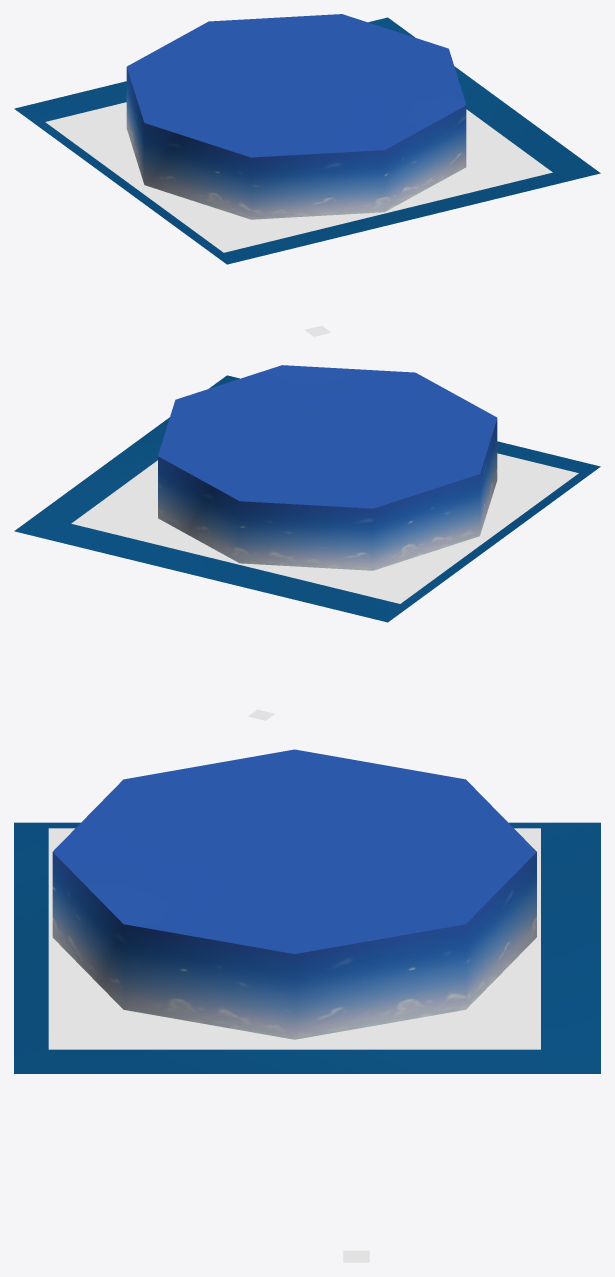
The model's file is world_map.glb.
3 renders of one model, top to bottom at view 1: azimuth 30°, elevation 25°; view 2: azimuth 150°, elevation 25°; view 3: azimuth 270°, elevation 25°, orthographic. The views are drawn at different scales.
Visible parts, largest first — view 1: skybox, beachwater, bottom; view 2: skybox, bottom, beachwater; view 3: skybox, bottom, beachwater.
Boxes of the visible parts, x1=… form: skybox: x1=126, y1=14, x2=466, y2=219; beachwater: x1=45, y1=102, x2=552, y2=336; bottom: x1=14, y1=17, x2=600, y2=264; skybox: x1=158, y1=365, x2=497, y2=570; bottom: x1=14, y1=375, x2=600, y2=622; beachwater: x1=71, y1=453, x2=578, y2=720; skybox: x1=52, y1=749, x2=536, y2=1039; bottom: x1=14, y1=822, x2=600, y2=1073; beachwater: x1=48, y1=828, x2=540, y2=1262.
Size of what is drawn, in the model's own units: 3794 by 2642 by 3744.
29 materials, 24 textured.
